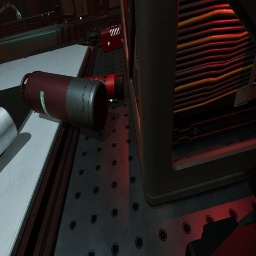0: (0, 107, 17, 155)
FireExtinguisher ]: (75, 73, 125, 104)
FirstAidBox ,: (101, 19, 123, 53)
NitrogenTank ,: (20, 71, 108, 132)
